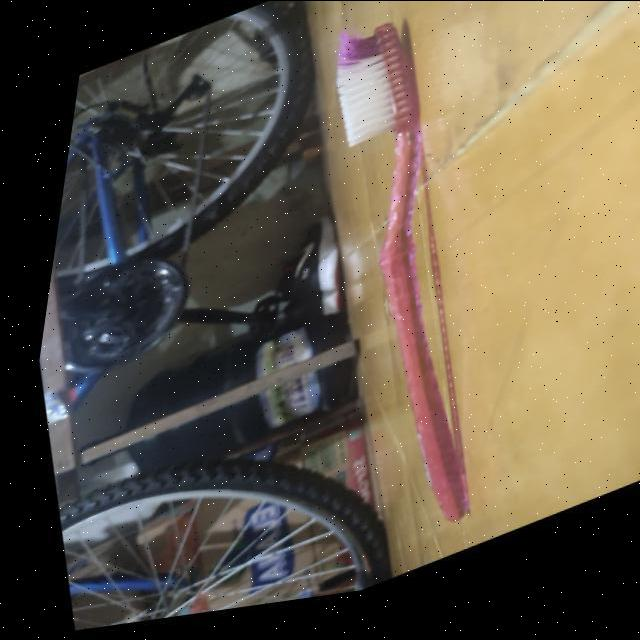toothbrush: (237, 0, 566, 588)
